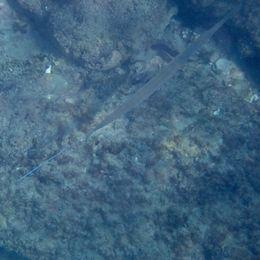Fistularia commersonii: (17, 0, 255, 167)
